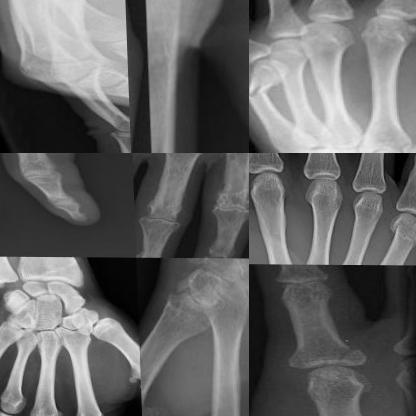fracture: (316, 342, 375, 370), (389, 216, 415, 254), (249, 73, 277, 105), (29, 329, 50, 351)
